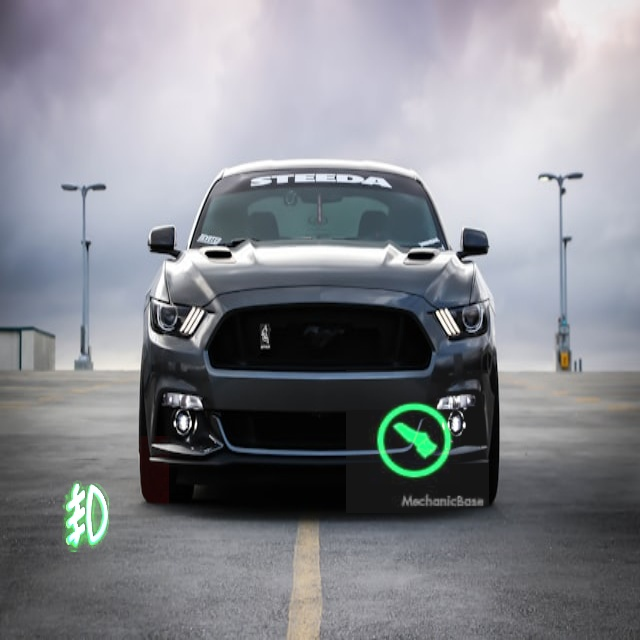symbol: (2, 436, 169, 603), (346, 370, 489, 513)
